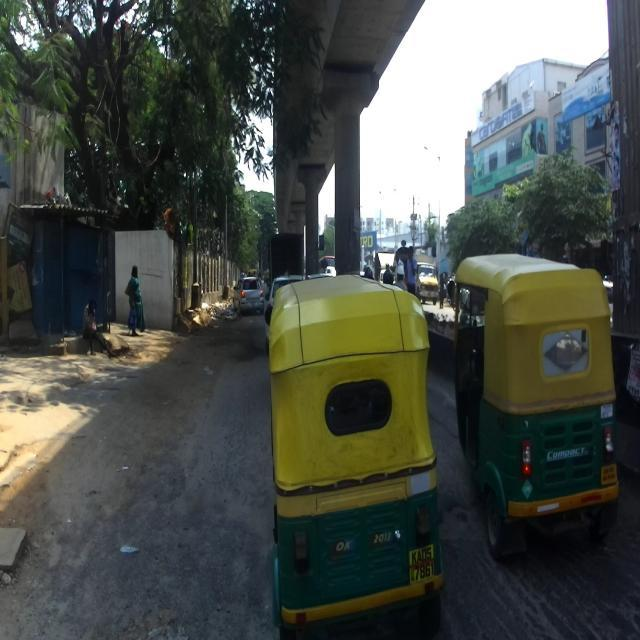pothole: (527, 573, 640, 640), (130, 559, 205, 640), (11, 370, 56, 444), (444, 484, 476, 576)
